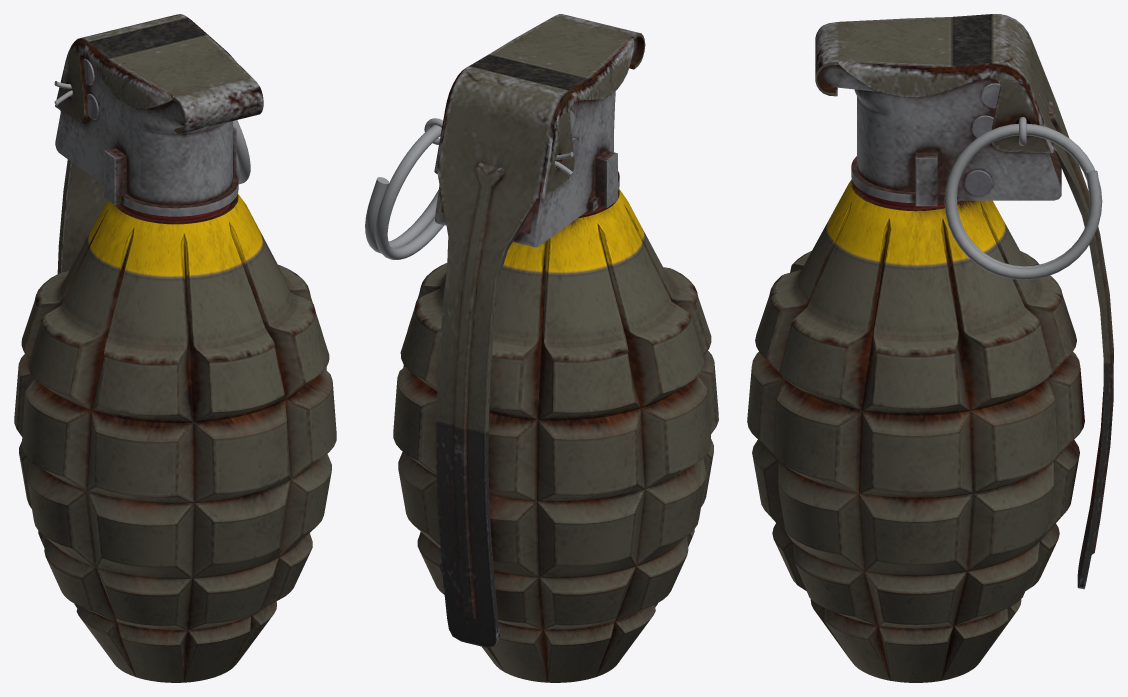
The model's file is gran_3.fbx.
The picture shows the model from 3 angles, left to right: view 1: azimuth 30°, elevation 25°; view 2: azimuth 150°, elevation 25°; view 3: azimuth 270°, elevation 25°; orthographic projection. The views are drawn at different scales.
Parts seen in each view (by area): view 1: gran3.body, gran3.hand, gran3.key; view 2: gran3.body, gran3.hand, gran3.key; view 3: gran3.body, gran3.hand, gran3.key.
Part boxes in pixels (x1,y1,x2,y2): gran3.body: (14,56,336,682); gran3.hand: (55,14,263,273); gran3.key: (54,81,250,184); gran3.body: (393,38,718,682); gran3.hand: (434,14,645,647); gran3.key: (365,118,573,259); gran3.body: (747,65,1084,682); gran3.hand: (815,14,1113,589); gran3.key: (944,117,1102,279).
Size of the model in its own units: 3.9 by 7.84 by 4.23.
1 material, 1 textured.
